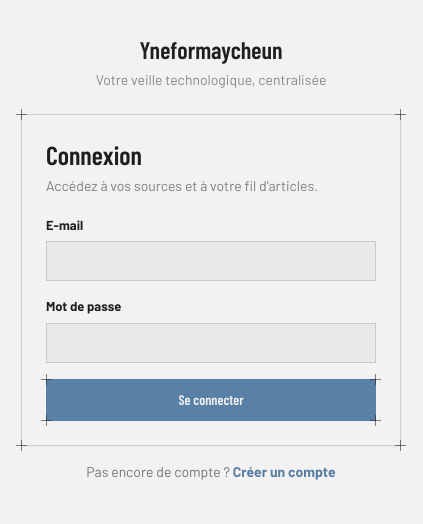
Scenario: Login › remonte le message du serveur pour les autres erreurs
In the field labelled "E-mail": (211, 261) [46, 241, 376, 281], type "veilleur@test.fr"
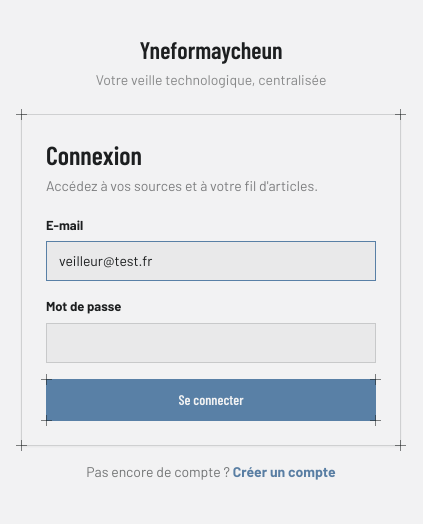
In the password field labelled "Mot de passe": (211, 343) [46, 323, 376, 363], type "motdepasse"
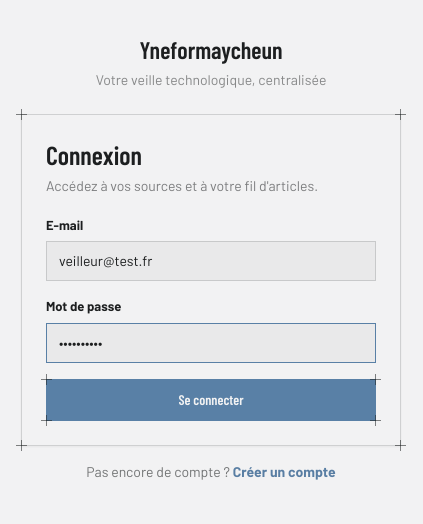
Click the button "Se connecter": (211, 400) [46, 379, 376, 421]
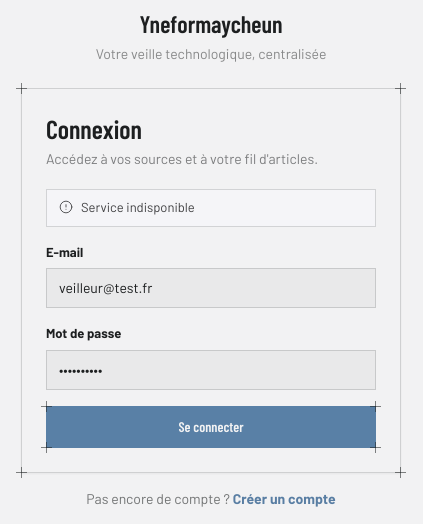
Expected: the text "Service indisponible" is shown, [81, 198, 195, 218]
